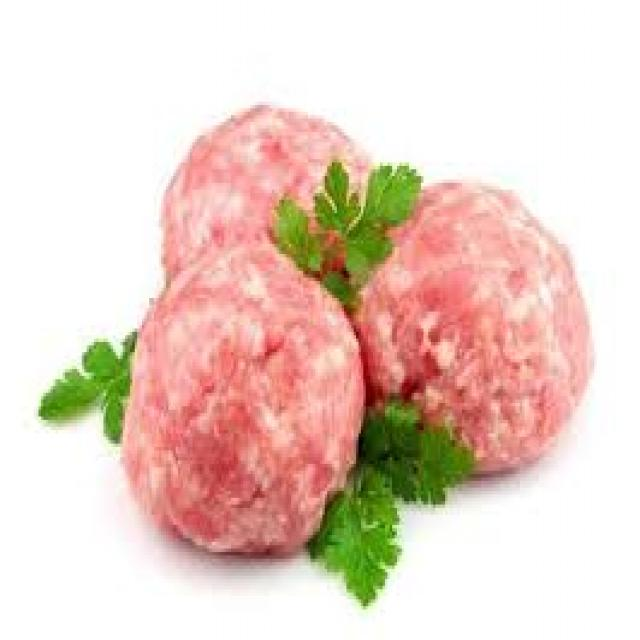Meatball: (348, 152, 601, 510), (111, 242, 370, 561)
